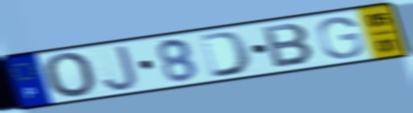8: (156, 38, 199, 84)
B: (260, 22, 318, 70)
D: (197, 29, 255, 80)
G: (315, 15, 366, 60)
J: (101, 43, 141, 92)
O: (40, 51, 99, 100)
